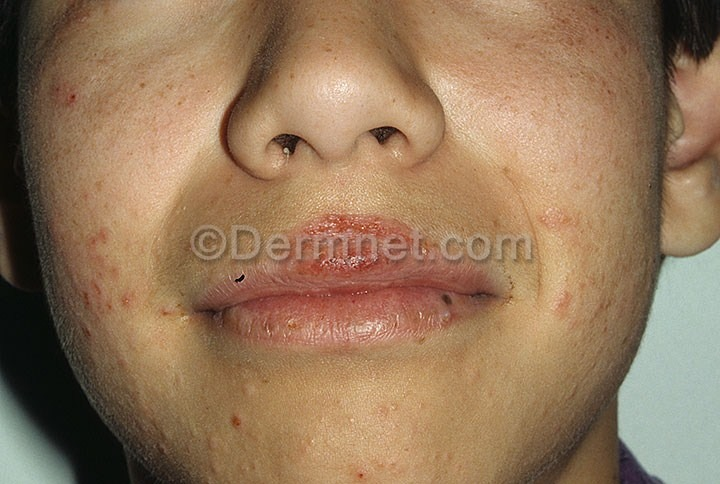Melasma: (492, 2, 655, 143), (26, 0, 131, 162), (56, 196, 155, 366), (529, 189, 618, 331), (192, 388, 279, 484), (293, 199, 415, 237)
